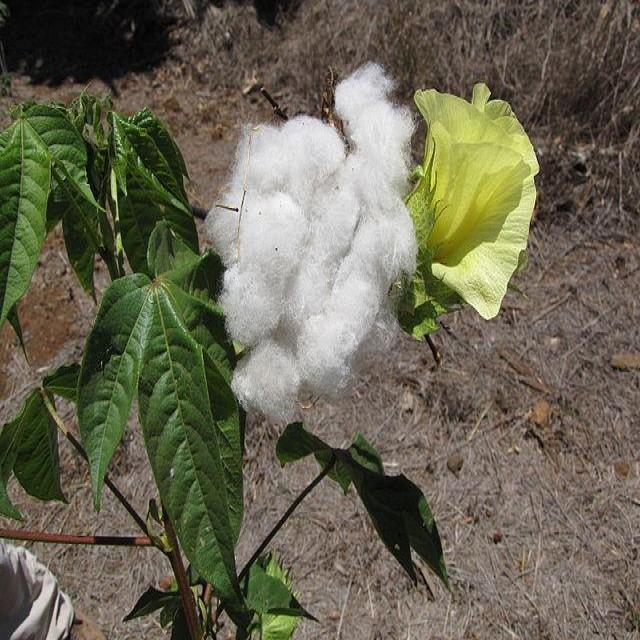Late_blight: (198, 64, 415, 412)
